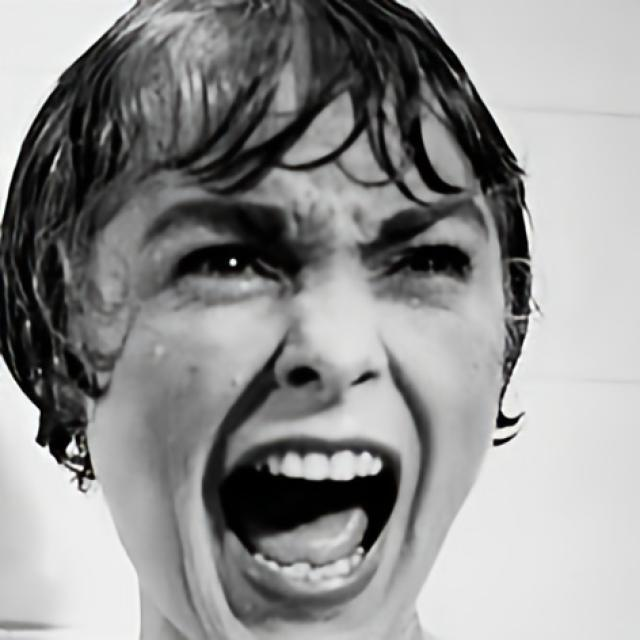fear: (77, 1, 507, 640)
